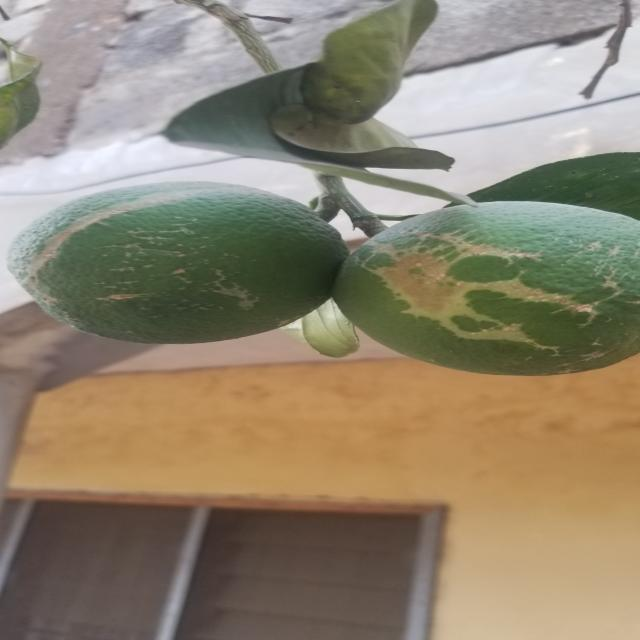Unripe: (16, 184, 353, 345), (333, 202, 634, 372)
